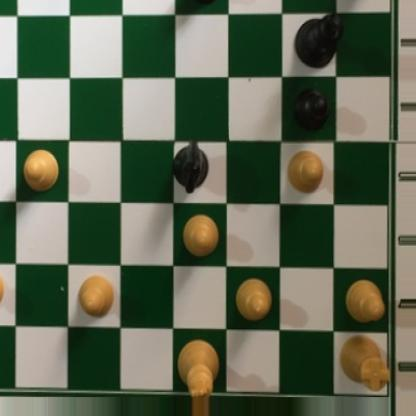black-king: (290, 13, 343, 71)
black-knight: (170, 135, 209, 194)
black-pawn: (291, 87, 329, 131), (182, 0, 223, 6)
white-king: (170, 335, 220, 398)
white-pawn: (19, 146, 61, 194), (75, 271, 117, 319), (344, 280, 389, 324), (286, 146, 326, 195), (232, 276, 274, 321), (182, 212, 220, 261), (0, 262, 6, 311)
white-rook: (335, 329, 392, 392)
